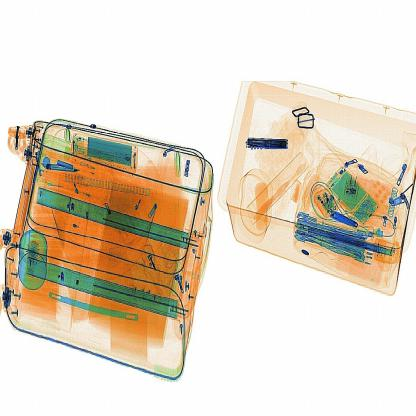scissors: (246, 131, 292, 155)
